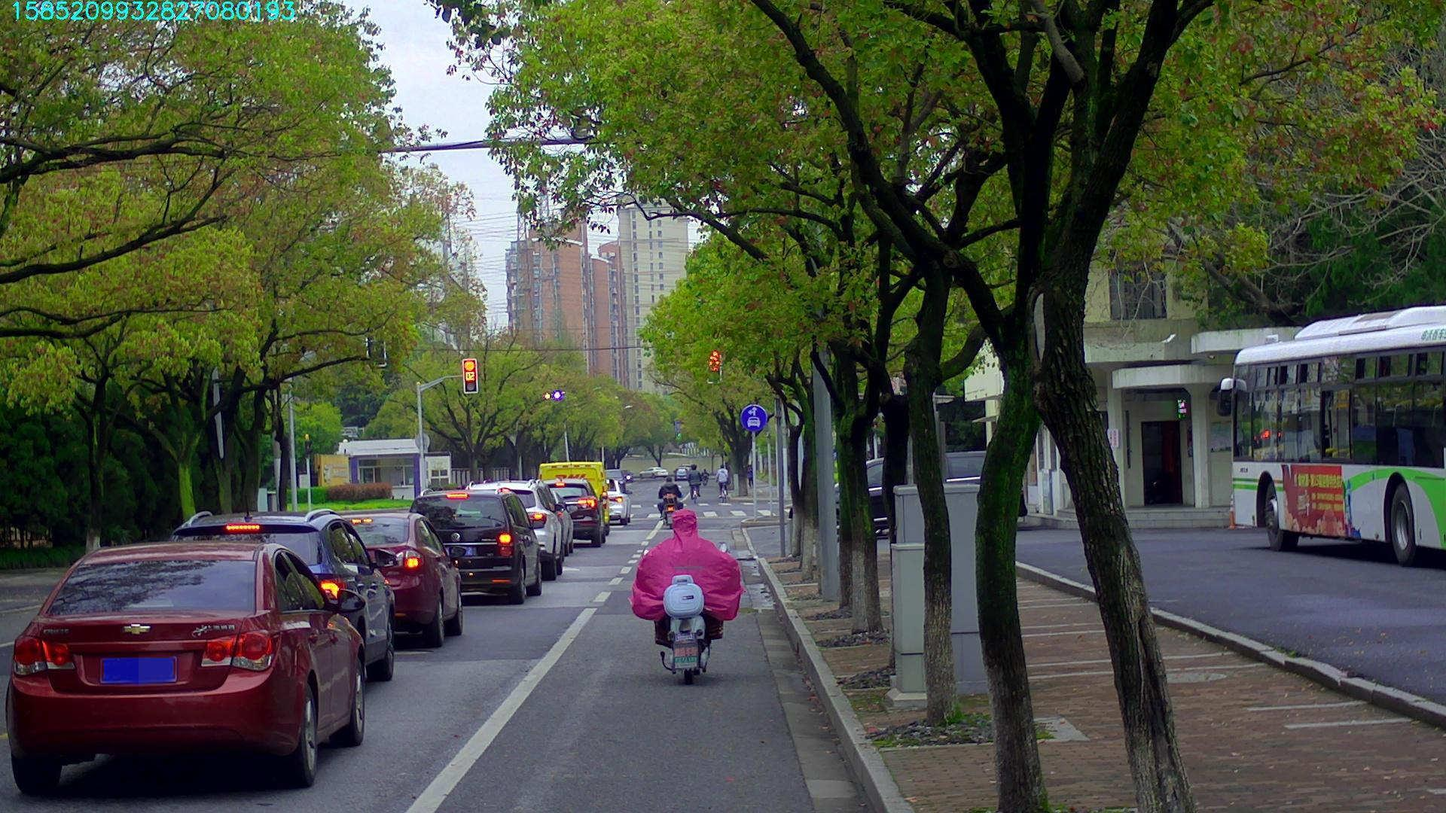red: (706, 344, 720, 382), (463, 358, 477, 392)
